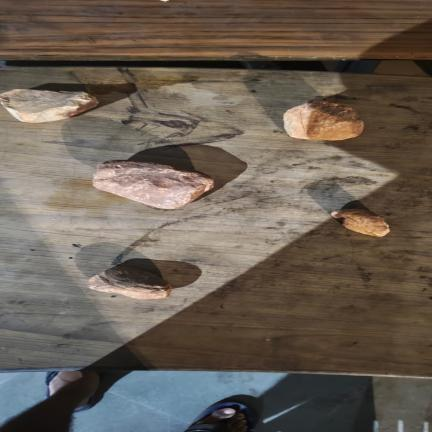Rocks: (93, 161, 213, 208), (0, 90, 98, 123), (284, 100, 363, 140), (89, 265, 171, 299), (332, 209, 389, 236)
